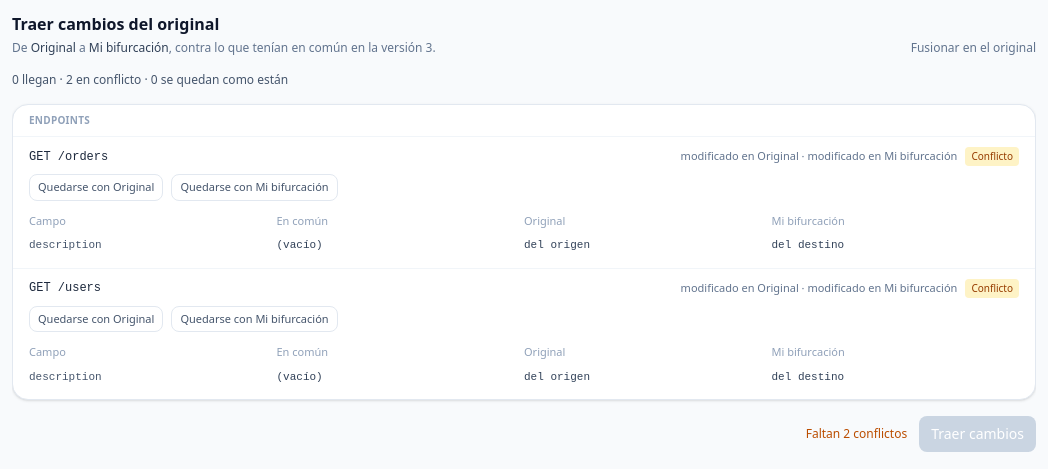
Test: ForkSyncPage › con varios conflictos los cuenta; mientras se aplica el botón lo dice
The width and height of the screenshot is (1048, 469).
Expected: the text "Faltan 2 conflictos" is shown, 806,426 -> 907,442
Click the 1st radio button labelled "Quedarse con Original". click: click(96, 187)
box: 29,174 -> 163,200
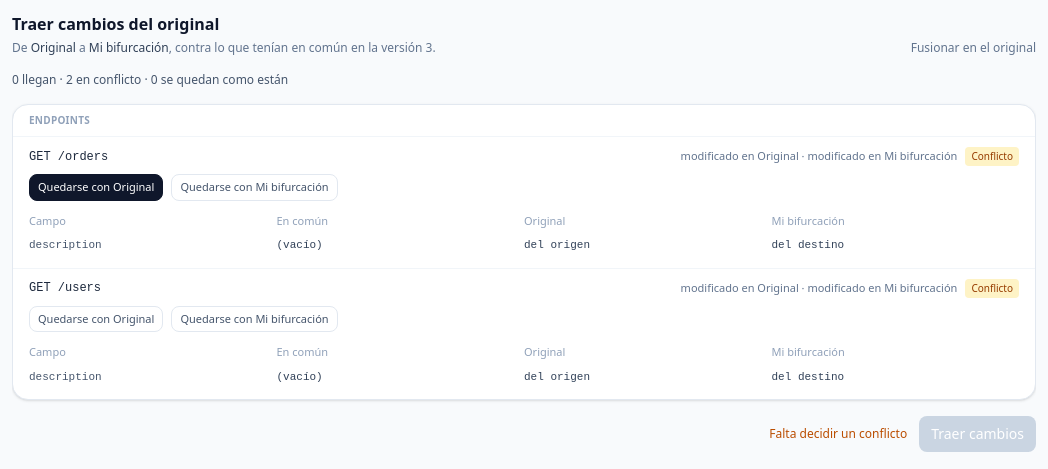
Click the 2nd radio button labelled "Quedarse con Original". click: click(96, 319)
box: 29,306 -> 163,332
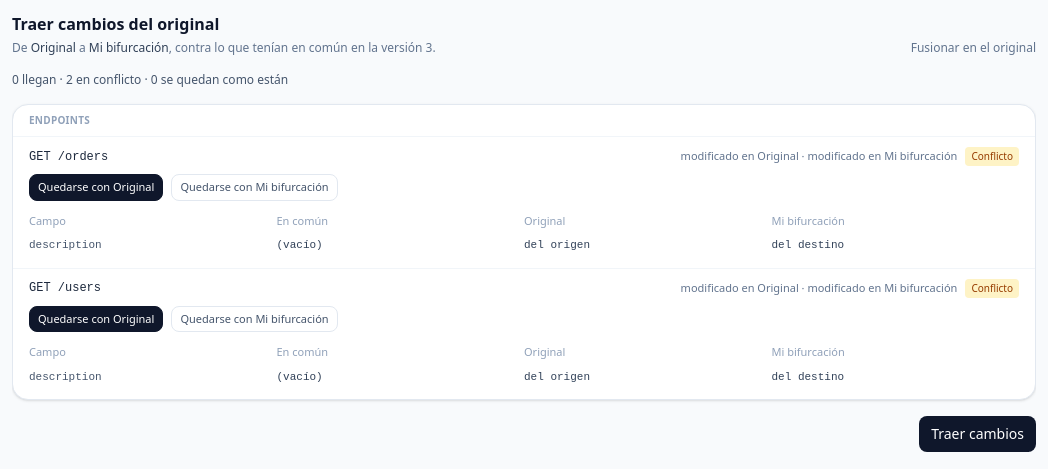
Click the button "Traer cambios". click: click(978, 434)
box: 919,416 -> 1036,452
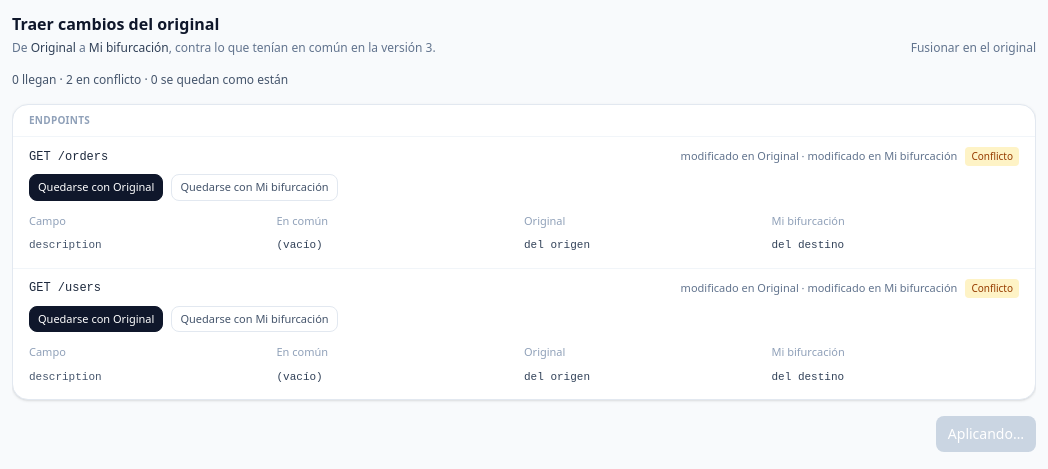
Now the button "Aplicando…" is disabled, box 936,416 -> 1036,452
